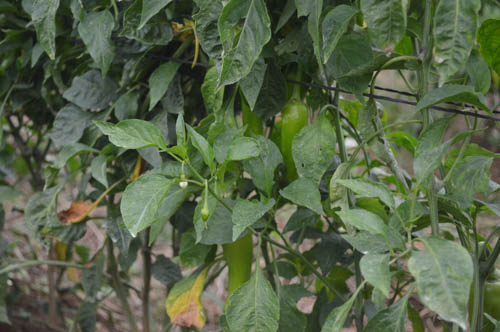ChiliPepper: (220, 216, 254, 318), (280, 103, 306, 182)
